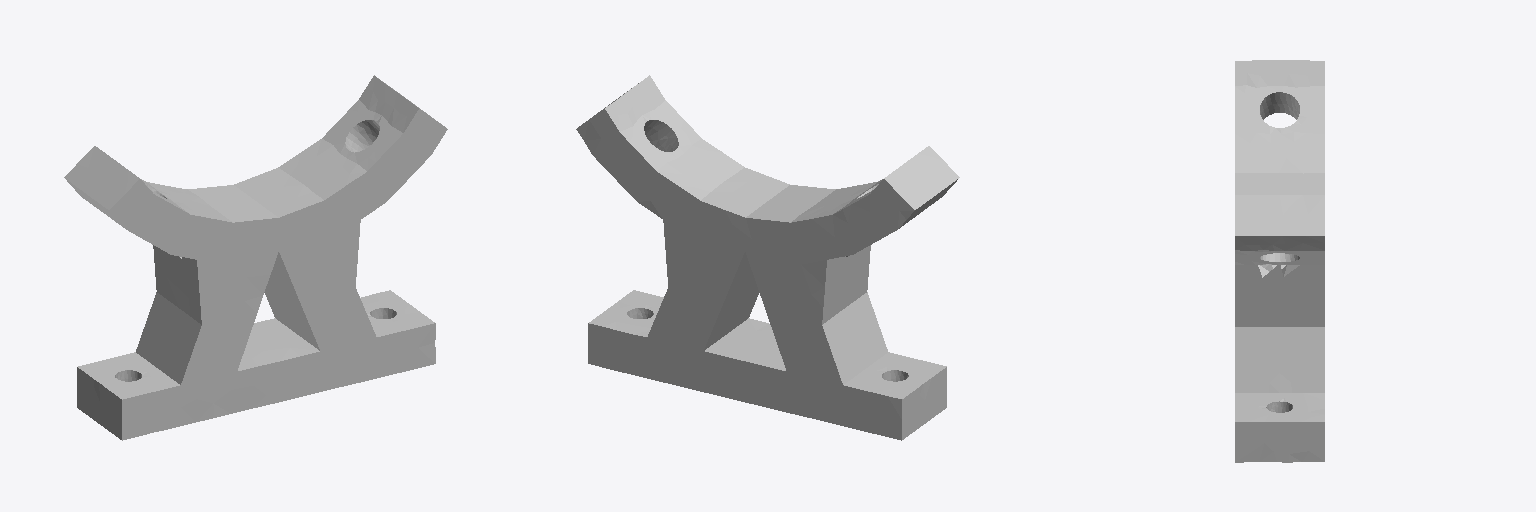
File: laser_mount.stl__sf.obj
3 renders of one model, left to right at view 1: azimuth 30°, elevation 25°; view 2: azimuth 150°, elevation 25°; view 3: azimuth 270°, elevation 25°, orthographic.
Size of the model in its own units: 86.42 by 63.33 by 20.